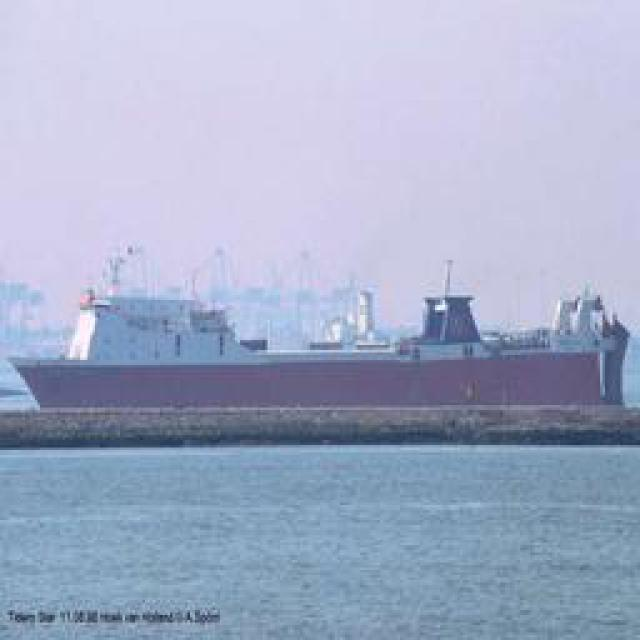Ship: (10, 274, 633, 444)
